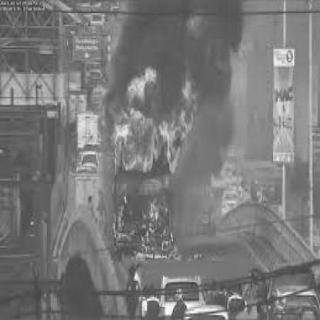Fire: (89, 0, 243, 261)
